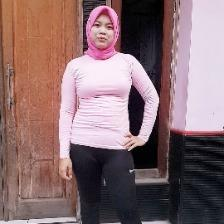Non Syar-i: (82, 2, 120, 61)
